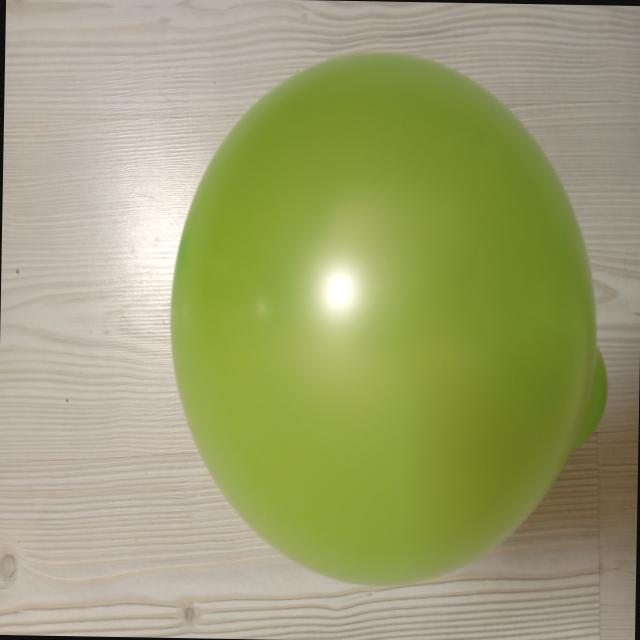balloon: (170, 53, 604, 584)
